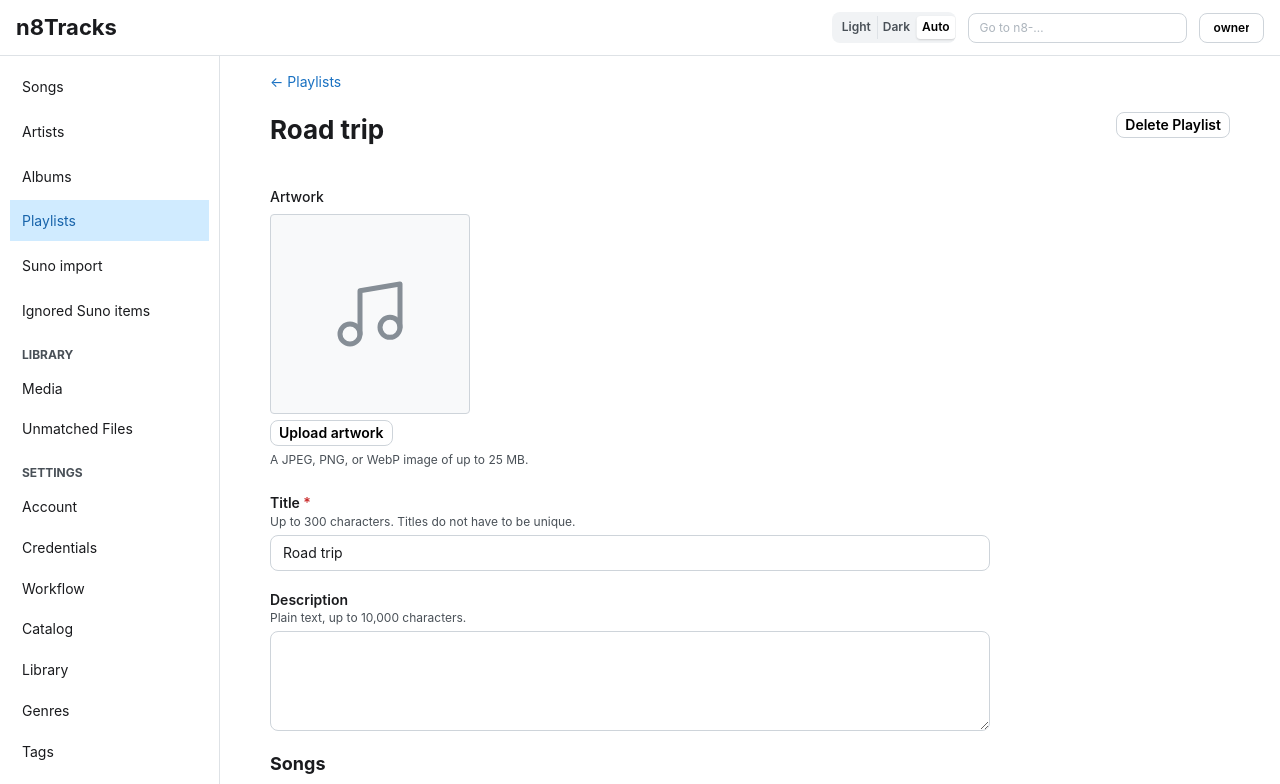
Test: deleting a Playlist › changes nothing when cancelled
expect the field labelled "Title" is shown: met, box x1=270 y1=535 x2=990 y2=571
Click the button "Delete Playlist" at (1173, 125), box x1=1116 y1=112 x2=1230 y2=138
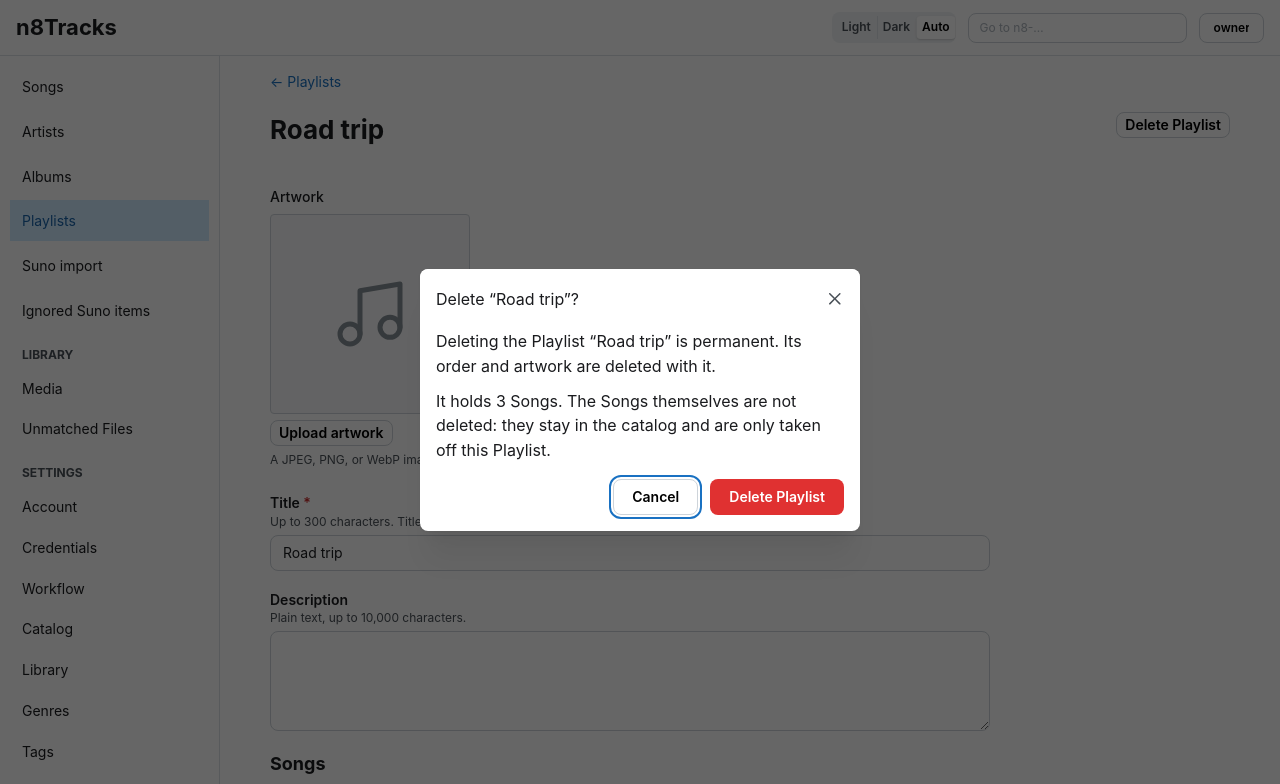
Click the button "Cancel" at (656, 497), box x1=613 y1=479 x2=698 y2=515
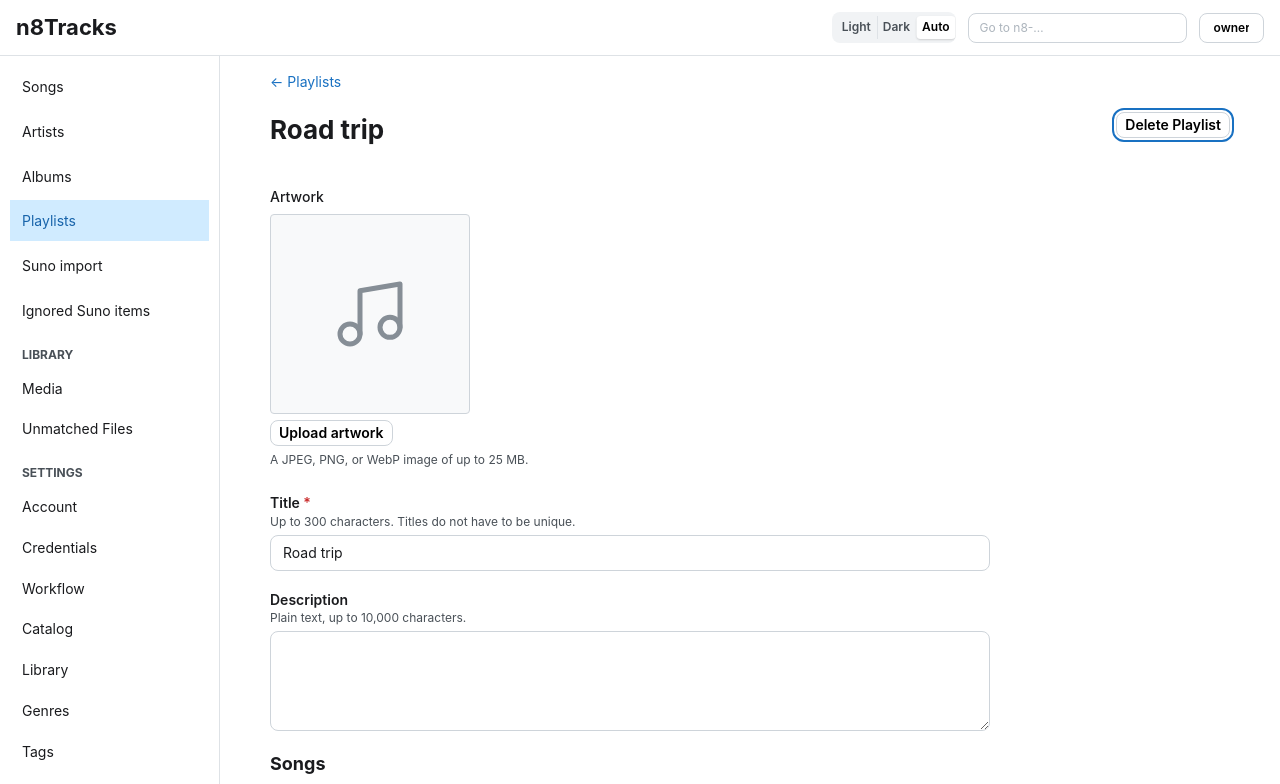
expect the heading "Road trip" is shown: met, box x1=270 y1=112 x2=384 y2=147
expect the dialog is gone: met
